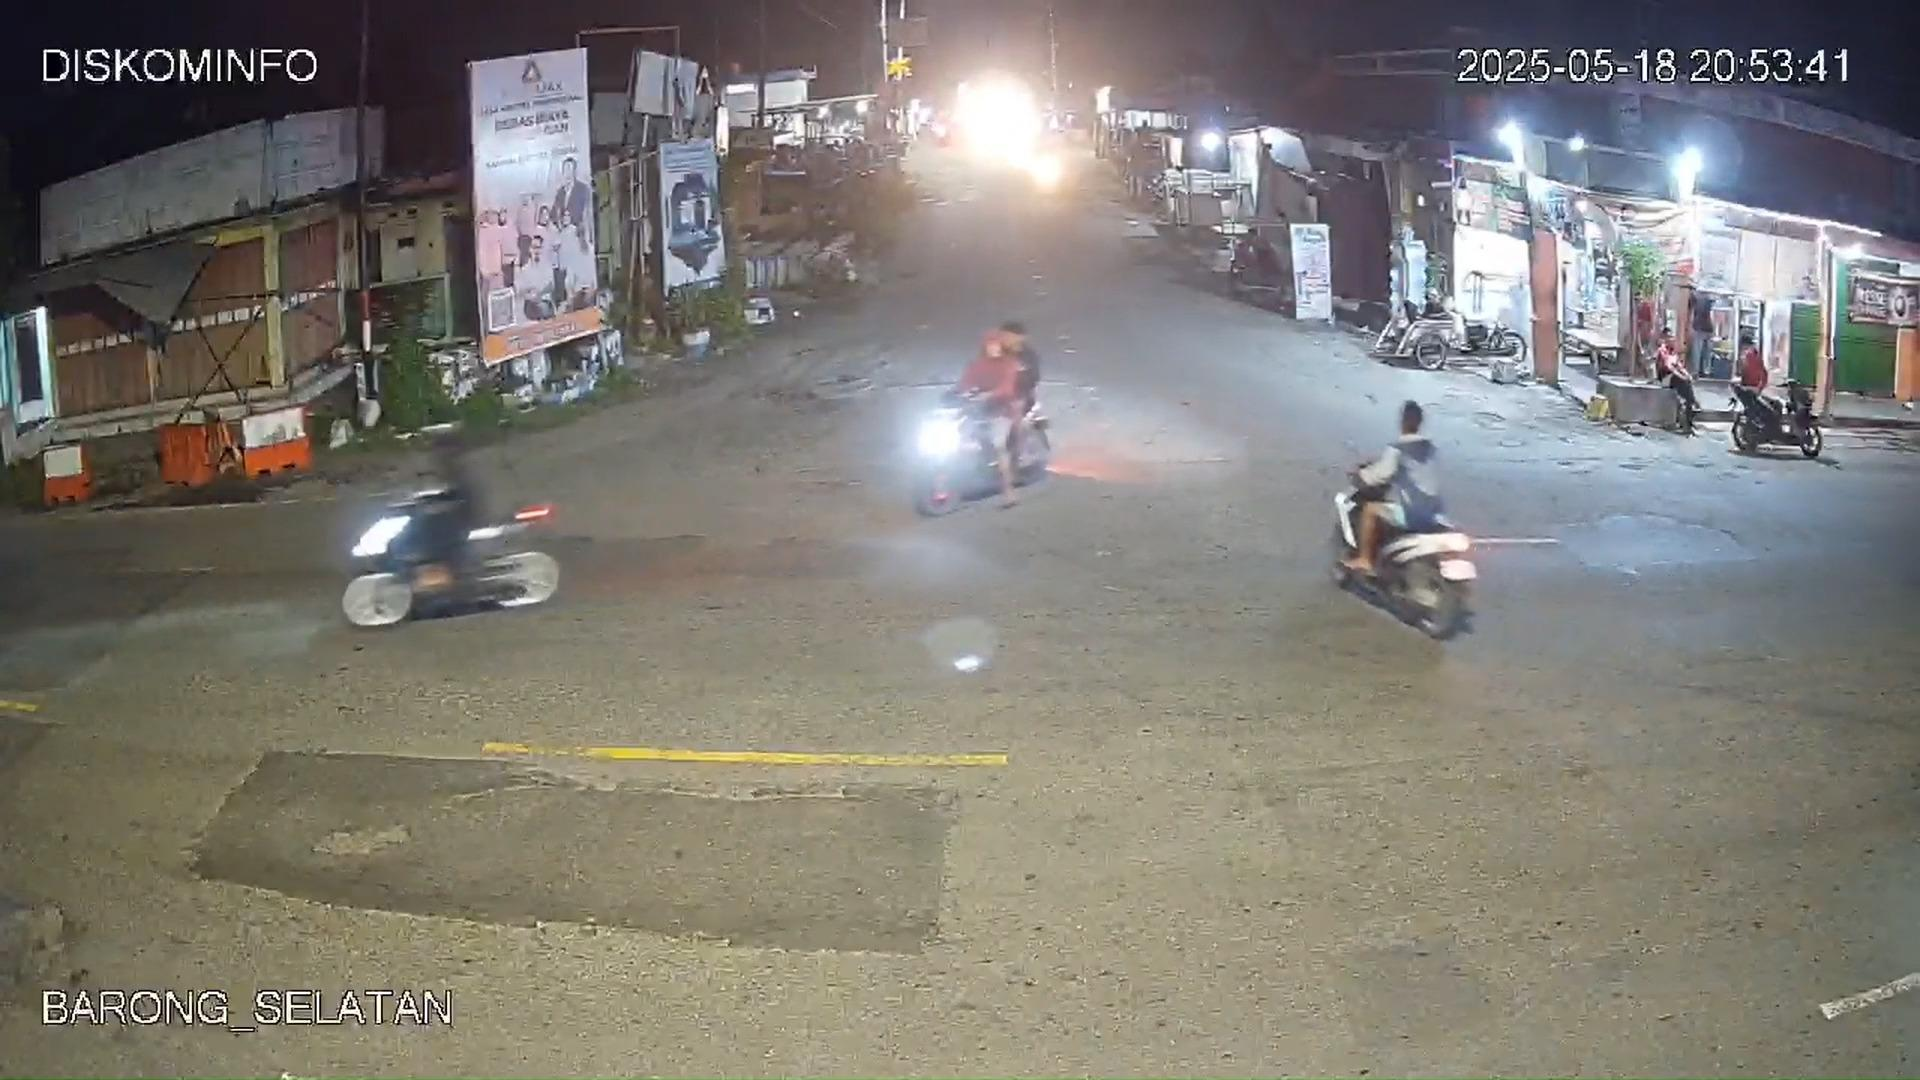Motor: (348, 427, 545, 624), (1341, 396, 1458, 600), (928, 319, 1046, 513)
